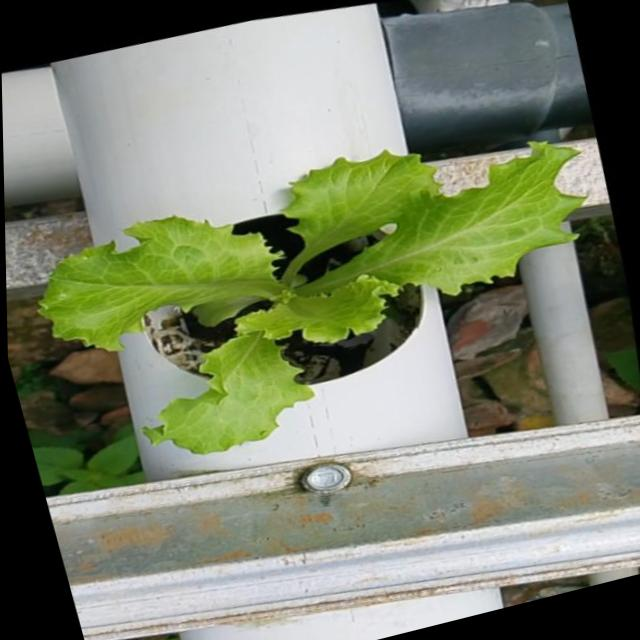Baby: (41, 140, 587, 452)
